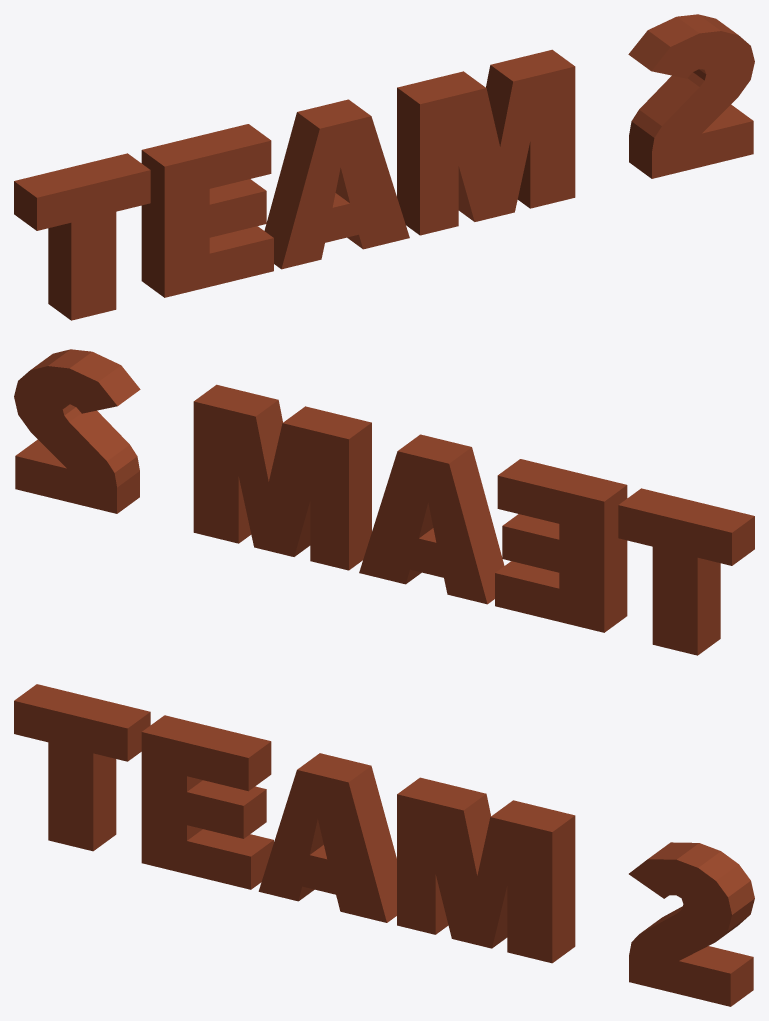
File: Team2.fbx
The picture shows the model from 3 angles, top to bottom: view 1: azimuth 30°, elevation 25°; view 2: azimuth 150°, elevation 25°; view 3: azimuth 330°, elevation 25°; orthographic projection.
Parts seen in each view (by area): view 1: Team2; view 2: Team2; view 3: Team2.
Part boxes in pixels (bbox=[...]): Team2: bbox=[14, 14, 754, 320]; Team2: bbox=[14, 349, 754, 655]; Team2: bbox=[14, 684, 754, 1006].
Bounding box in the file's own units: 215 × 38.38 × 11.89.
